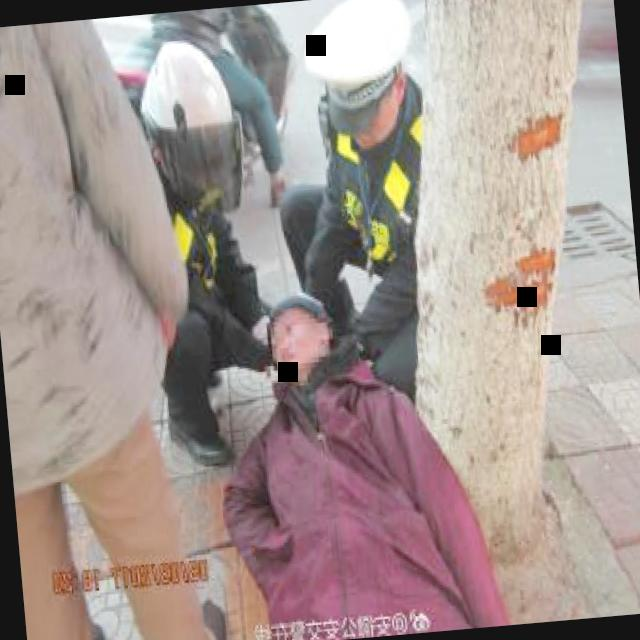Fall-Detected: (173, 250, 562, 640)
